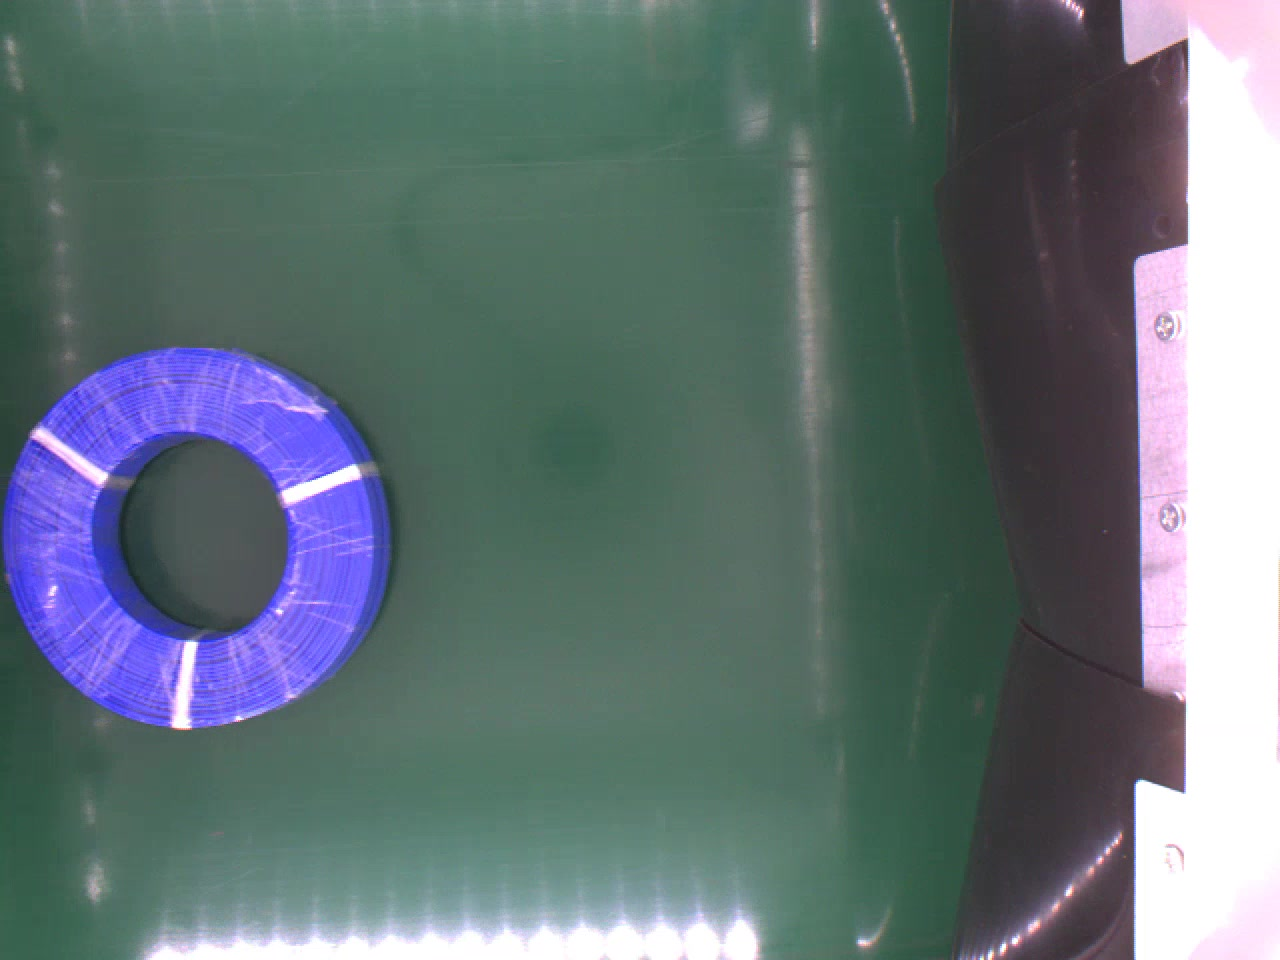blue: (9, 338, 391, 731)
